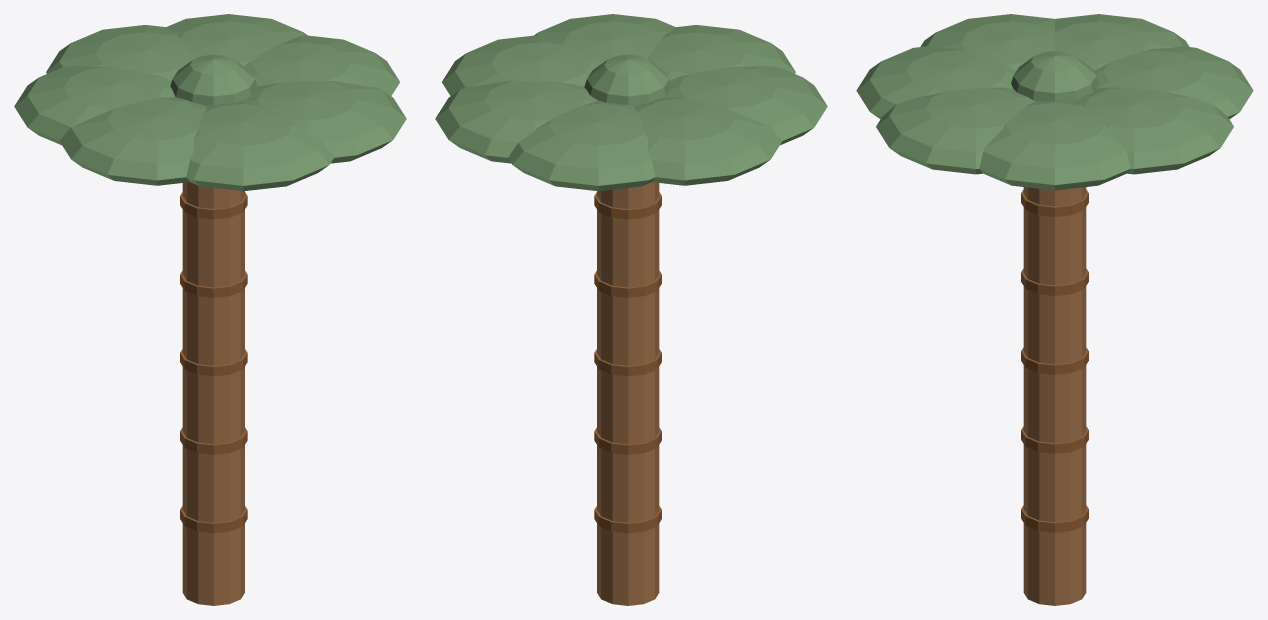
Rendered from palm_tree.glb.
3 views of the same model, side by side, from view 1: azimuth 30°, elevation 25°; view 2: azimuth 150°, elevation 25°; view 3: azimuth 270°, elevation 25° (orthographic).
Parts seen in each view (by area): view 1: palm_tree; view 2: palm_tree; view 3: palm_tree.
Boxes of the visible parts, bbox=[...] form: palm_tree: bbox=[14, 14, 406, 605]; palm_tree: bbox=[435, 14, 827, 605]; palm_tree: bbox=[856, 14, 1253, 605].
Bounding box in the file's own units: 2.25 × 3.4 × 2.28.
